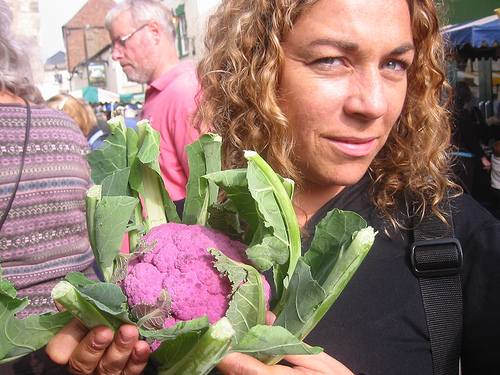cauliflower: (122, 221, 274, 352)
